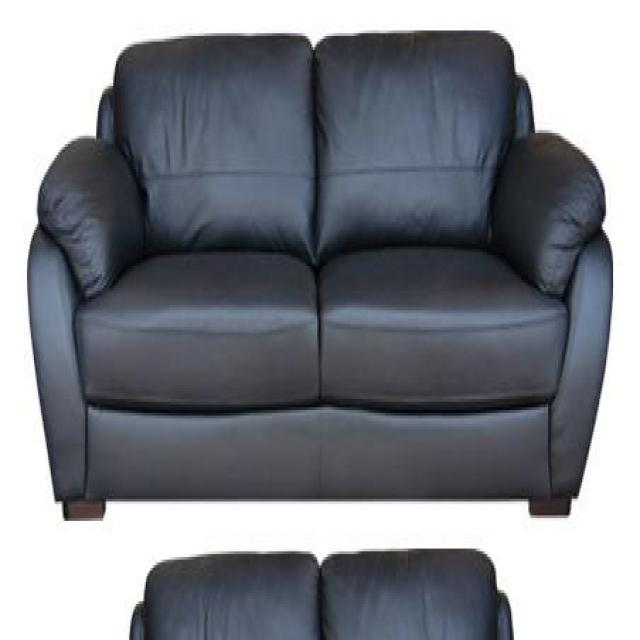sofa: (26, 32, 615, 521)
